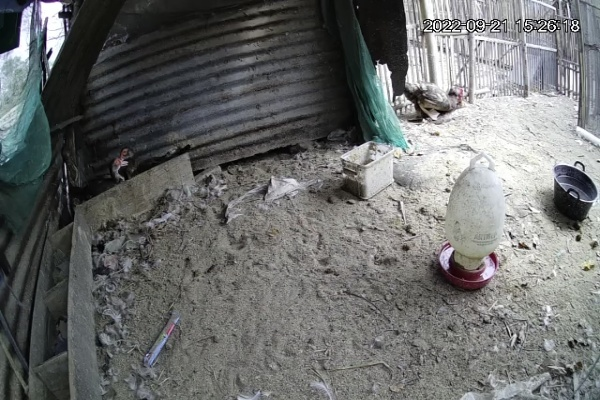Kawin: (388, 73, 476, 133)
